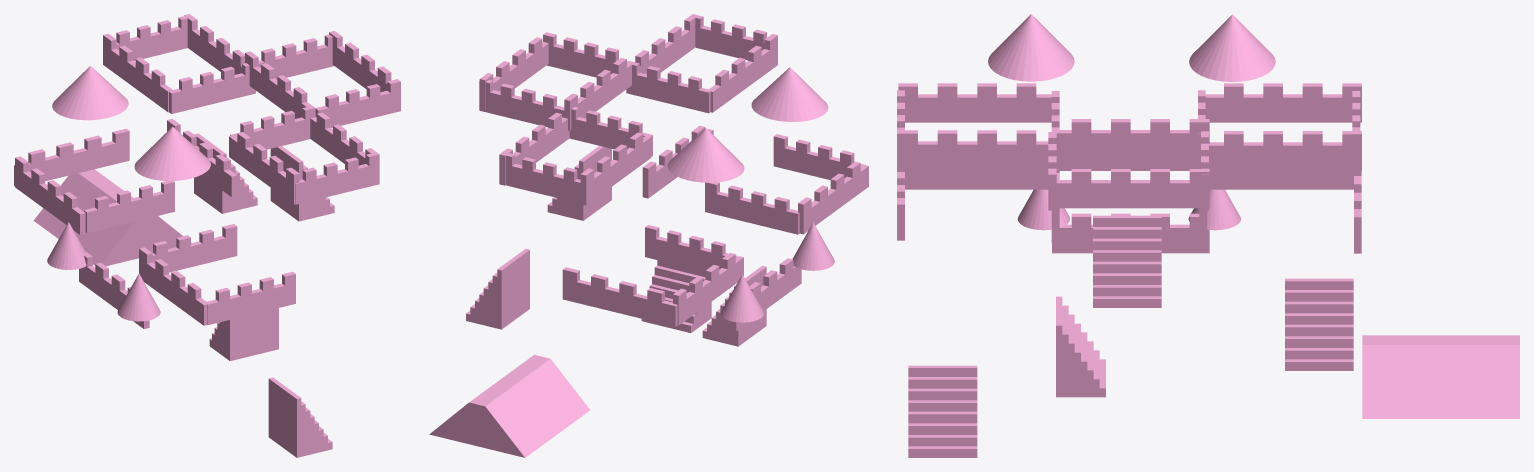
Rendered from castle roof.fbx.
3 renders of one model, left to right at view 1: azimuth 30°, elevation 25°; view 2: azimuth 150°, elevation 25°; view 3: azimuth 270°, elevation 25°, orthographic. The views are drawn at different scales.
Parts seen in each view (by area): view 1: Cube.111; view 2: Cube.111; view 3: Cube.111.
Boxes of the visible parts, x1,y1,x2,y2 form: Cube.111: (14,14,400,457); Cube.111: (429,14,868,457); Cube.111: (897,14,1519,457).
Bounding box in the file's own units: 1510 × 1594 × 2372.
